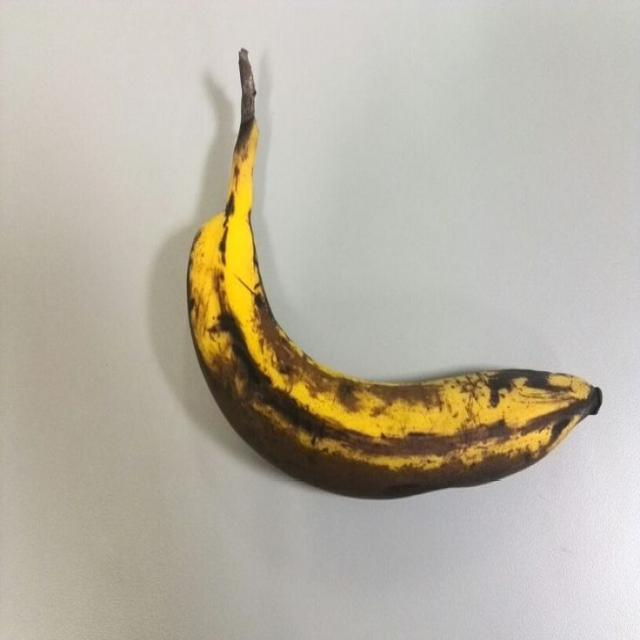Banana: (183, 50, 607, 502)
